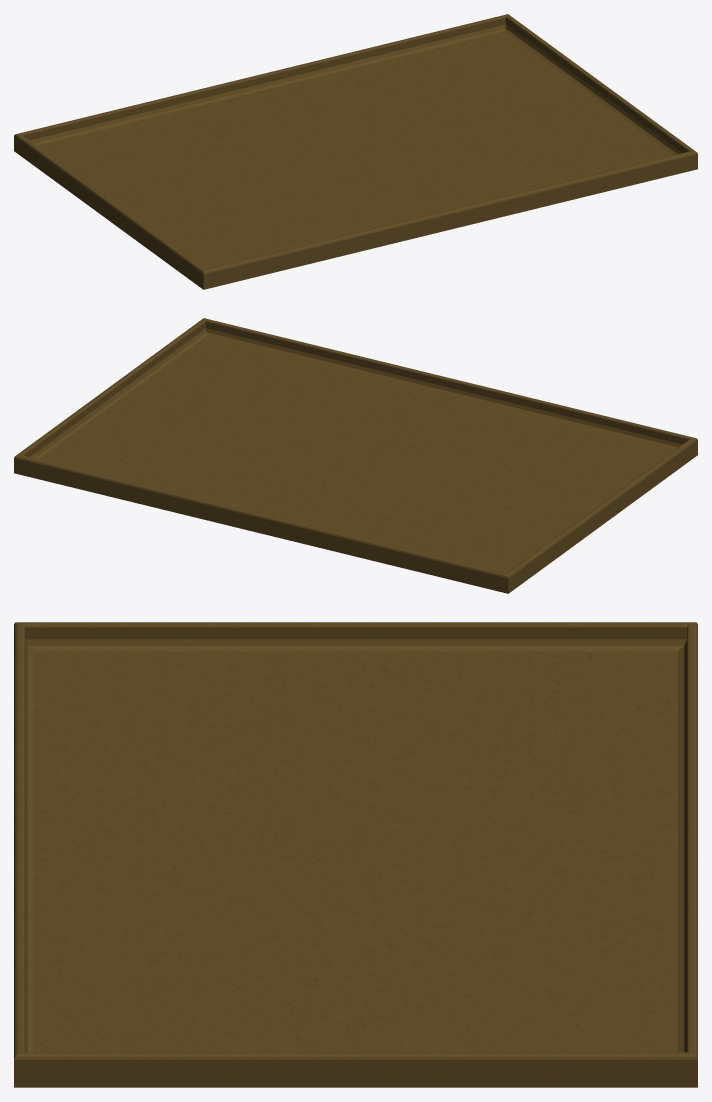
File: KitchenDinnerTray.003.fbx
3 views of the same model, one above another, from view 1: azimuth 30°, elevation 25°; view 2: azimuth 150°, elevation 25°; view 3: azimuth 270°, elevation 25° (orthographic). The views are drawn at different scales.
Parts seen in each view (by area): view 1: KitchenDinnerTray.003_Baked; view 2: KitchenDinnerTray.003_Baked; view 3: KitchenDinnerTray.003_Baked.
Part boxes in pixels (<box>): KitchenDinnerTray.003_Baked: <box>14,14,697,289</box>; KitchenDinnerTray.003_Baked: <box>14,318,697,593</box>; KitchenDinnerTray.003_Baked: <box>14,622,697,1087</box>.
Bounding box in the file's own units: 42.24 × 1.42 × 28.06.
1 material, 1 textured.
